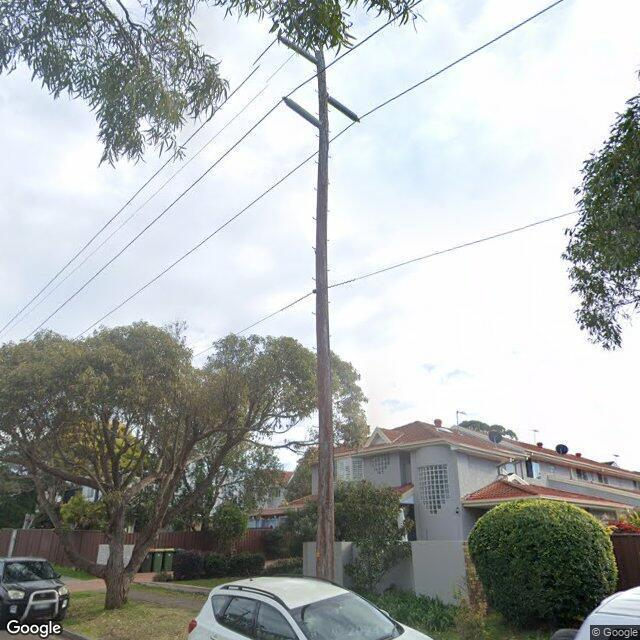HV-transmission: (278, 34, 361, 131)
timber-pole: (314, 48, 336, 584)
